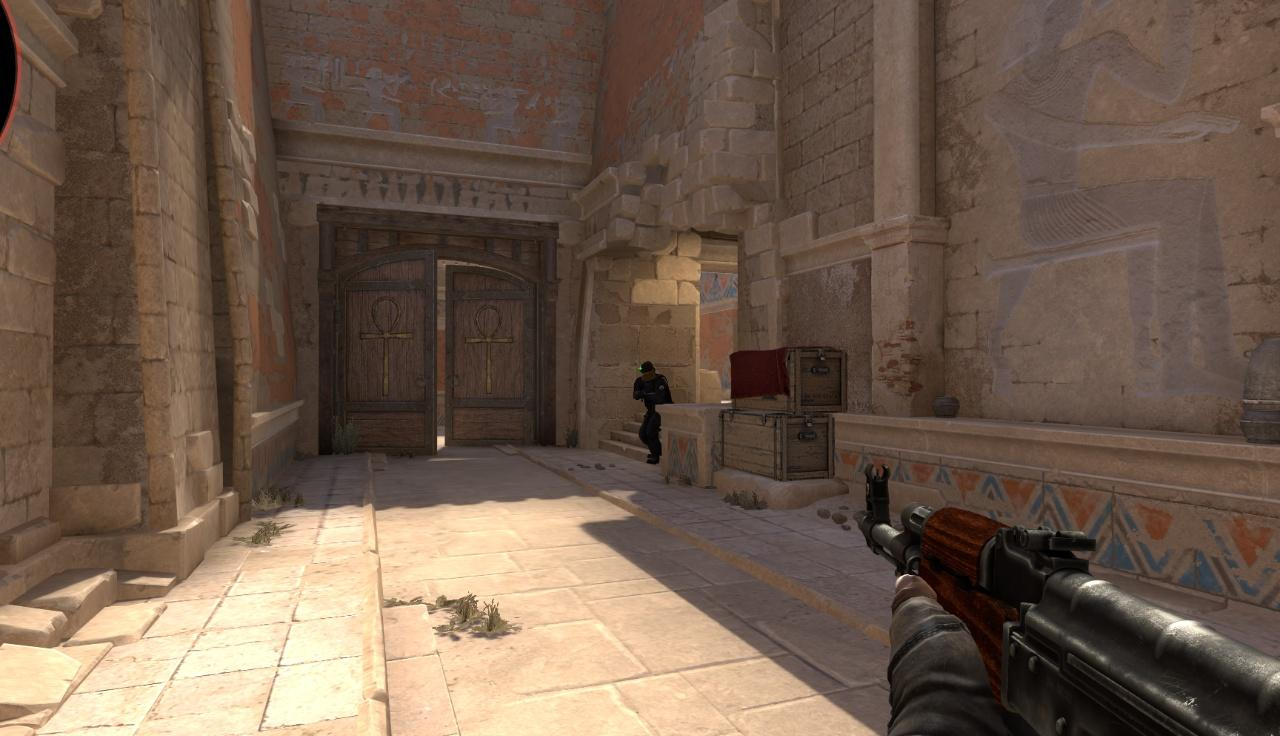ct: (639, 361, 663, 463)
cthead: (640, 362, 655, 380)
rifle: (853, 461, 1280, 736)
